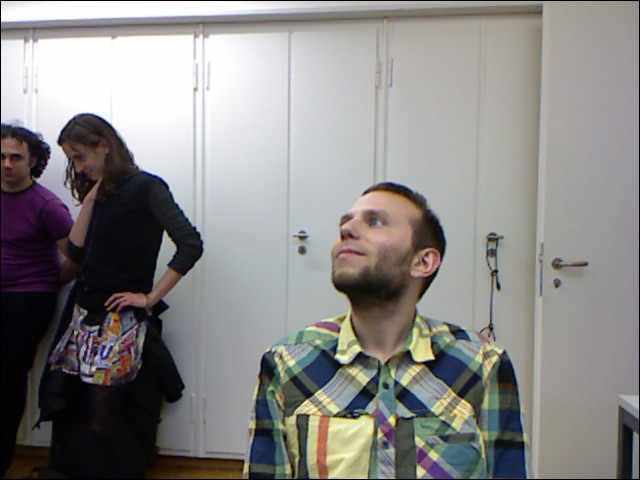deflection: (254, 185, 517, 416), (57, 119, 165, 234), (1, 125, 68, 237)
